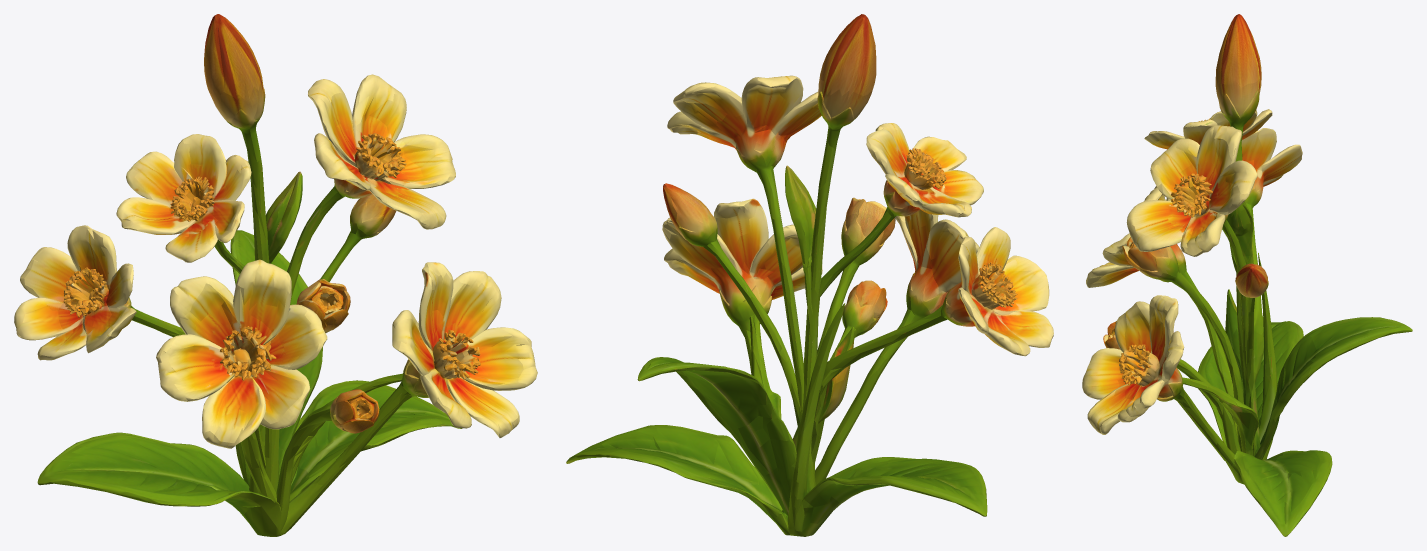
Rendered from meshy-1795742778535.glb.
3 views of the same model, side by side, from view 1: azimuth 30°, elevation 25°; view 2: azimuth 150°, elevation 25°; view 3: azimuth 270°, elevation 25° (orthographic). The views are drawn at different scales.
Size of the model in its own units: 1.69 by 1.9 by 1.29.
Materials: 1 (1 with a texture image).
